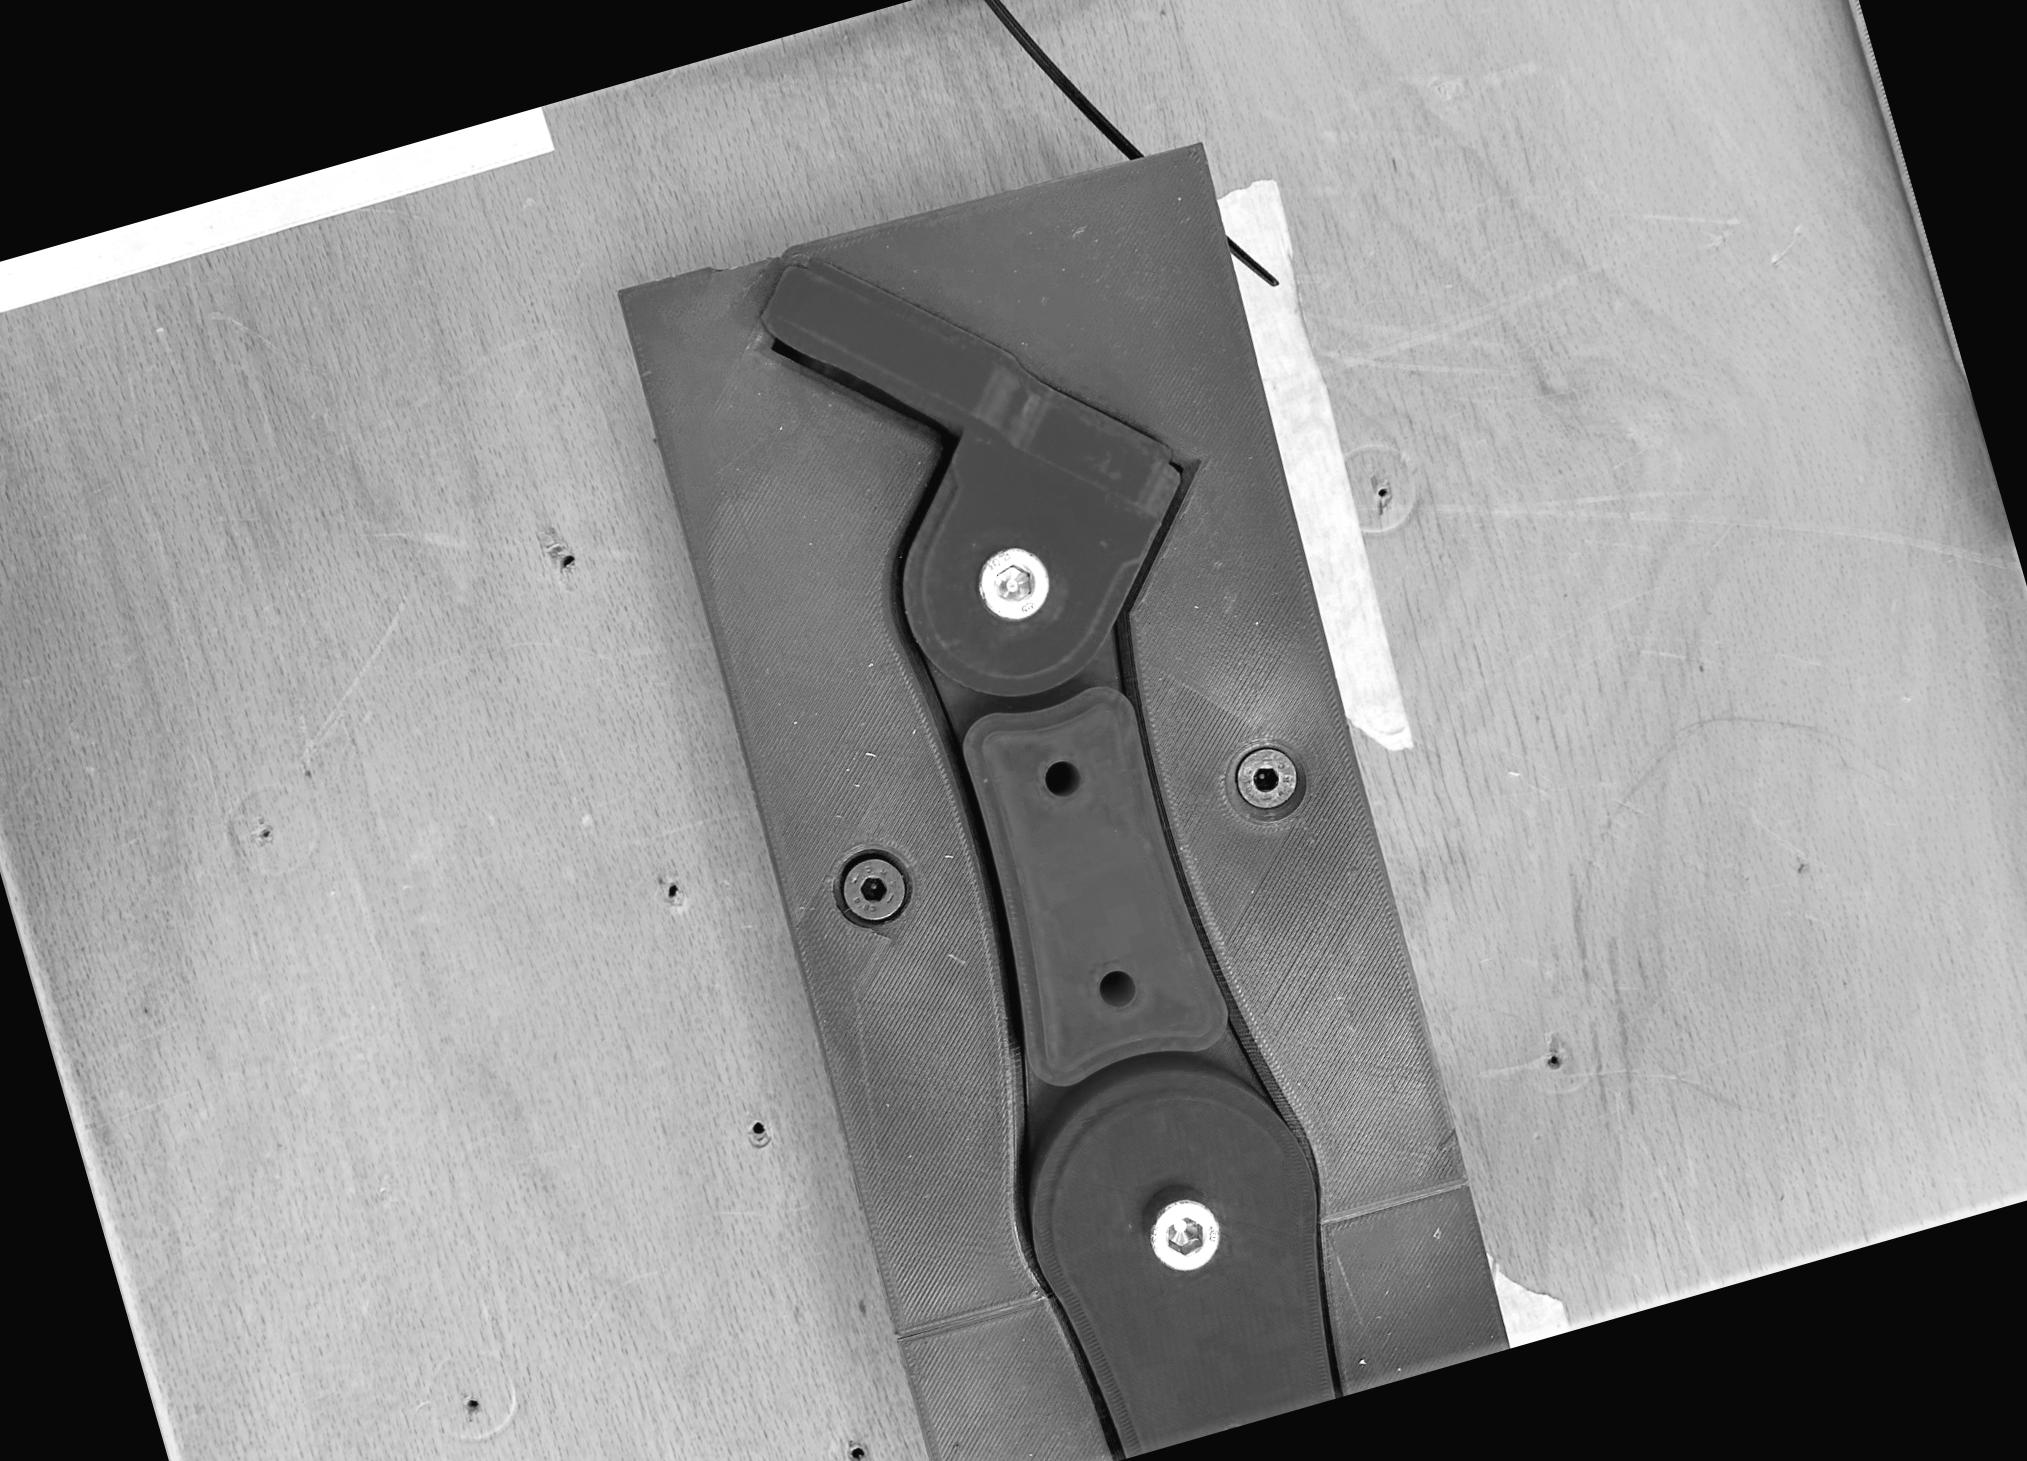allen: (970, 540, 1056, 630), (1142, 1192, 1228, 1279), (832, 848, 914, 930), (1228, 744, 1305, 818)
